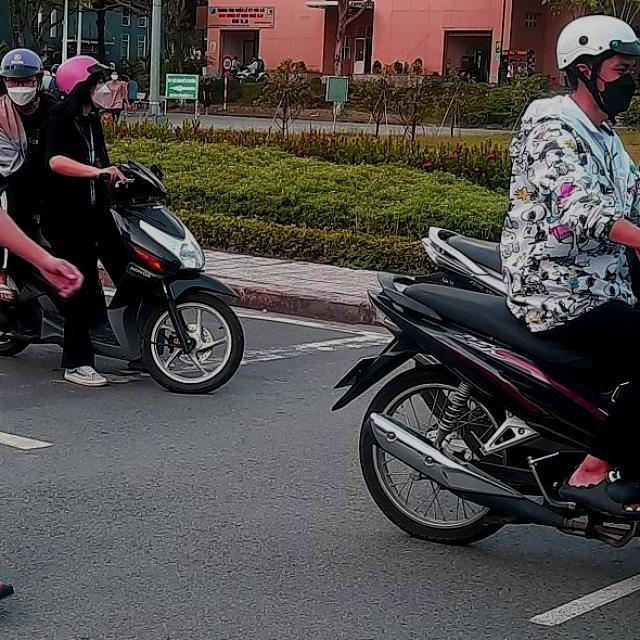Helmet: (556, 15, 640, 117), (54, 55, 112, 114), (0, 45, 43, 105)
